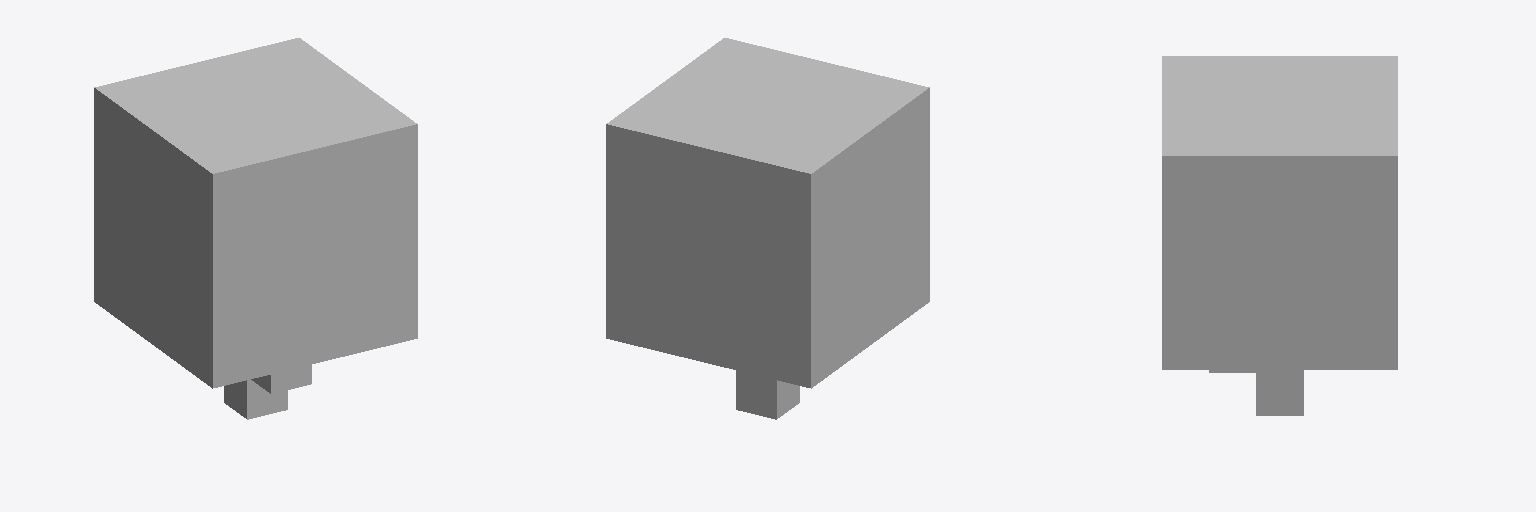
File: tree2.vox.obj
3 views of the same model, side by side, from view 1: azimuth 30°, elevation 25°; view 2: azimuth 150°, elevation 25°; view 3: azimuth 270°, elevation 25° (orthographic).
Parts seen in each view (by area): view 1: object 1; view 2: object 1; view 3: object 1.
Part boxes in pixels (left/top/right/bottom): object 1: left=94, top=38, right=417, bottom=419; object 1: left=606, top=38, right=929, bottom=419; object 1: left=1162, top=56, right=1397, bottom=415.
Size of the model in its own units: 0.5 by 0.7 by 0.5.